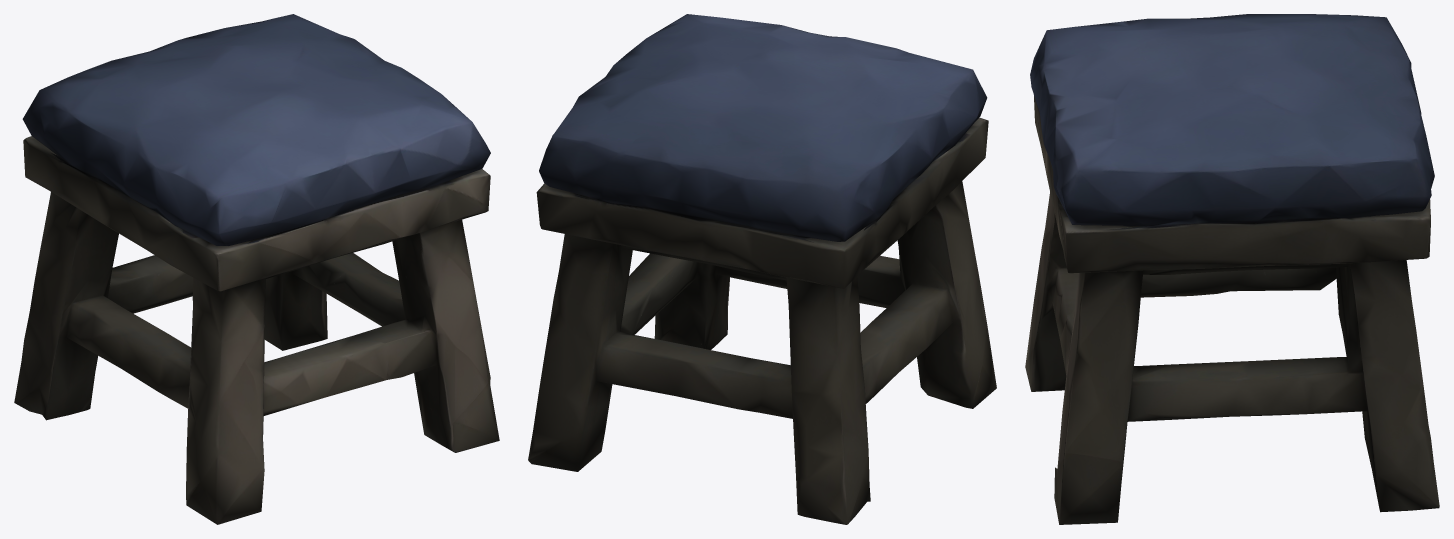
The model's file is low-poly+stool+3d+model.glb.
3 views of the same model, side by side, from view 1: azimuth 30°, elevation 25°; view 2: azimuth 150°, elevation 25°; view 3: azimuth 270°, elevation 25° (orthographic). The views are drawn at different scales.
Visible parts, largest first — view 1: tripo_node_4ee11590-6e3d-4204-b351-ccd691c8df37; view 2: tripo_node_4ee11590-6e3d-4204-b351-ccd691c8df37; view 3: tripo_node_4ee11590-6e3d-4204-b351-ccd691c8df37.
Boxes of the visible parts, box(x1,y1,x2,y2) form: tripo_node_4ee11590-6e3d-4204-b351-ccd691c8df37: box(14, 14, 499, 524); tripo_node_4ee11590-6e3d-4204-b351-ccd691c8df37: box(528, 14, 996, 524); tripo_node_4ee11590-6e3d-4204-b351-ccd691c8df37: box(1025, 14, 1439, 524).
Bounding box in the file's own units: 0.9882 × 0.9878 × 1.
Materials: 1 (1 with a texture image).
